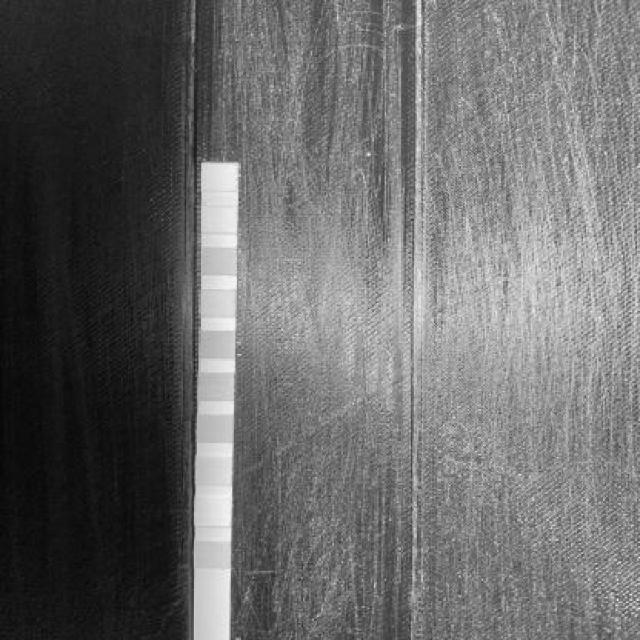Bilirubin: (195, 500, 231, 527)
Blood: (198, 373, 234, 401)
Glucose: (193, 542, 230, 567)
Ketone: (196, 458, 232, 485)
Leukocytes: (202, 163, 238, 191)
Nitrite: (201, 206, 237, 232)
Protein: (199, 290, 236, 317)
SpGravity: (197, 417, 233, 442)
Urobilinogen: (200, 248, 237, 276)
background: (0, 0, 640, 640)
pH: (199, 332, 235, 357)
strip: (195, 163, 239, 638)
